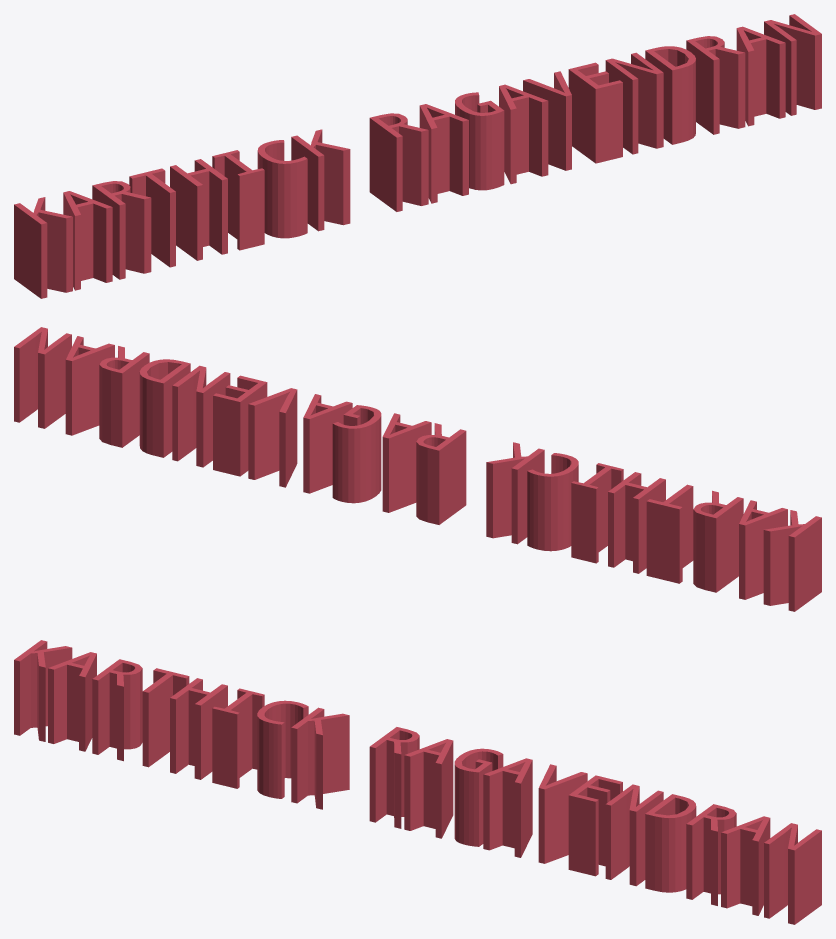
Rendered from karthick.glb.
3 views of the same model, one above another, from view 1: azimuth 30°, elevation 25°; view 2: azimuth 150°, elevation 25°; view 3: azimuth 330°, elevation 25° (orthographic).
Parts seen in each view (by area): view 1: Mesh_Mesh_head_geo.001_lambert2SG.001; view 2: Mesh_Mesh_head_geo.001_lambert2SG.001; view 3: Mesh_Mesh_head_geo.001_lambert2SG.001.
Part boxes in pixels (box(x1,y1,x2,y2)): Mesh_Mesh_head_geo.001_lambert2SG.001: box(14, 14, 821, 298); Mesh_Mesh_head_geo.001_lambert2SG.001: box(14, 327, 821, 611); Mesh_Mesh_head_geo.001_lambert2SG.001: box(14, 640, 821, 924).
Size of the model in its own units: 329 by 30 by 20.4.
